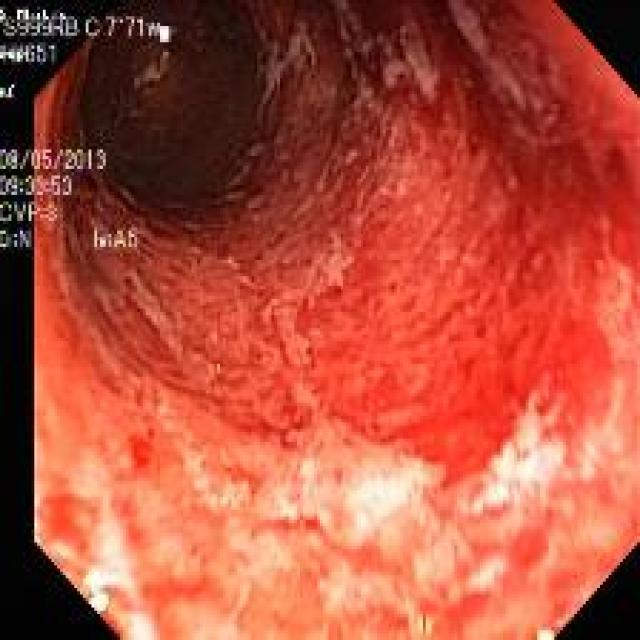ulcerative-colitis-grade-3: (35, 3, 640, 638)
